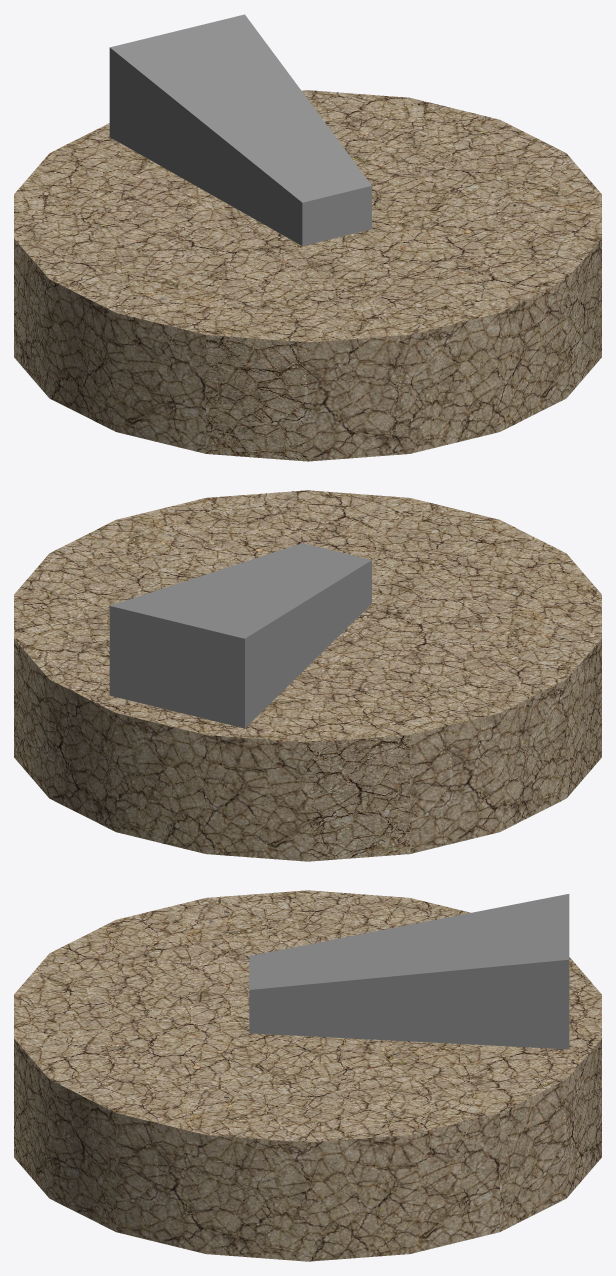
The model's file is rotator.FBX.
3 renders of one model, top to bottom at view 1: azimuth 30°, elevation 25°; view 2: azimuth 150°, elevation 25°; view 3: azimuth 270°, elevation 25°, orthographic.
Parts seen in each view (by area): view 1: Box001; view 2: Box001; view 3: Box001.
Part boxes in pixels (left/top/right/bottom): Box001: left=14, top=14, right=601, bottom=461; Box001: left=14, top=490, right=601, bottom=861; Box001: left=14, top=890, right=601, bottom=1261.
Bounding box in the file's own units: 31.96 × 12.33 × 31.47.
